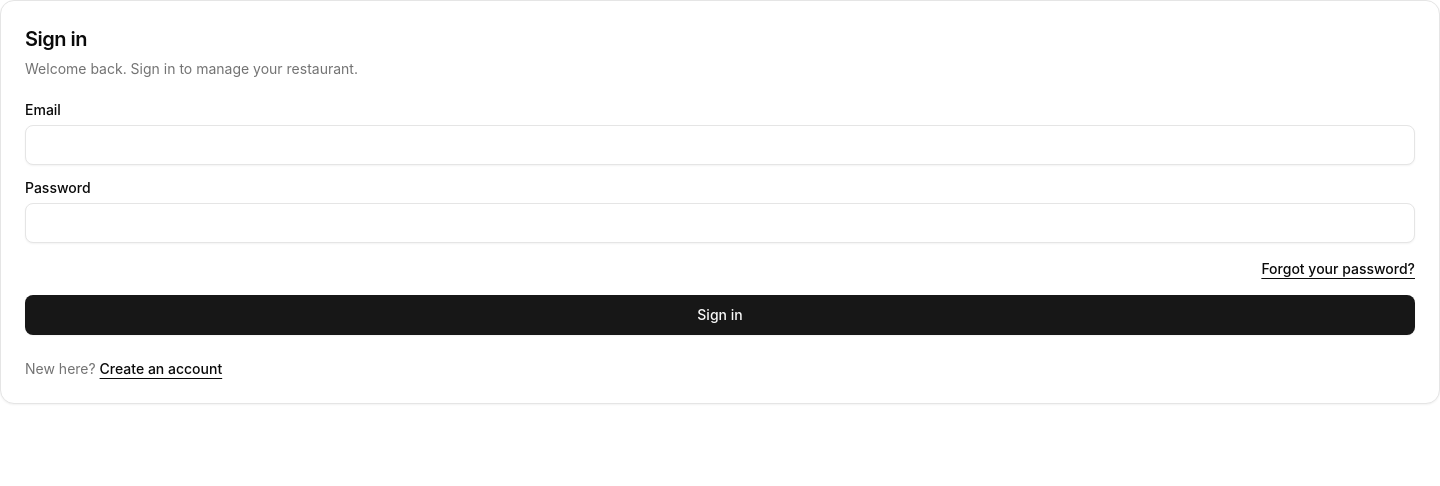
Test case: LoginForm › shows the invalid-credentials message from the API
Type "owner@example.pk" into the field labelled "Email". click: [720, 145]
box: [25, 125, 1415, 165]
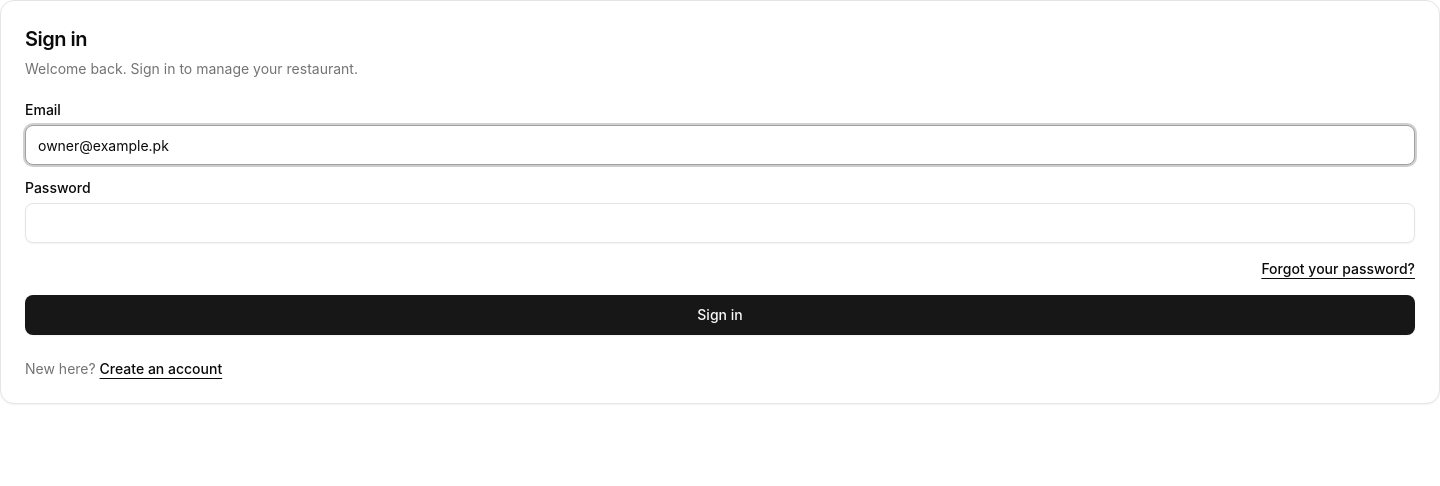
Type "wrong-password" into the password field labelled "Password". click: [720, 223]
box: [25, 203, 1415, 243]
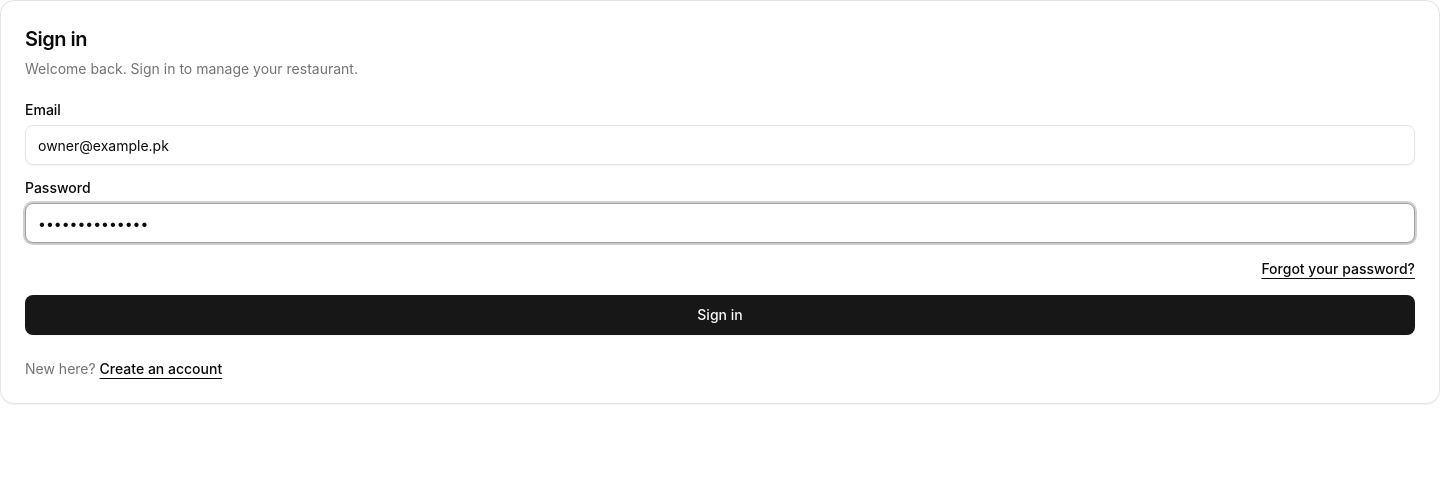
Click the button "Sign in". click: [720, 315]
box: [25, 295, 1415, 335]
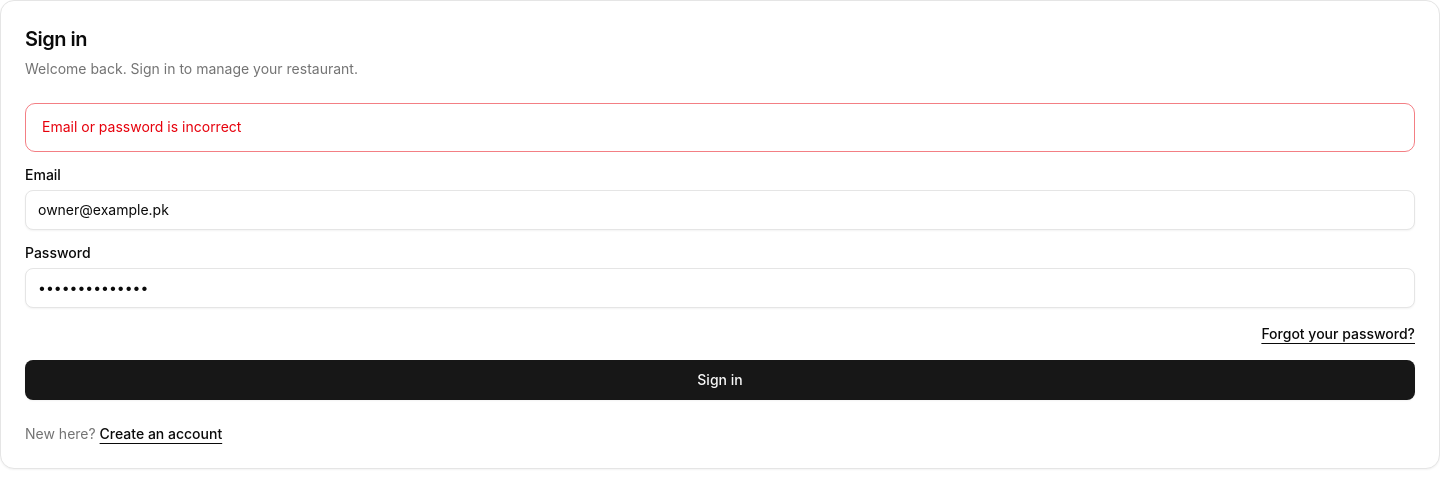
Expected: the button "Sign in" is enabled, [25, 360, 1415, 400]
Result: the message reads "Email or password is incorrect" at [42, 118, 241, 135]
